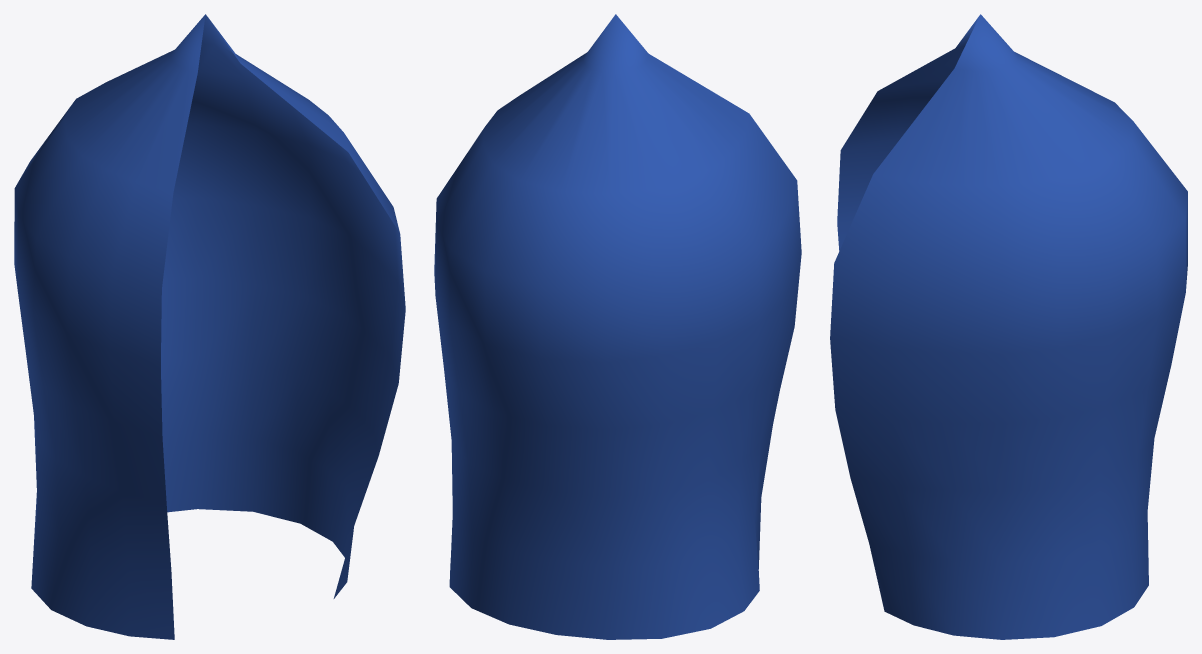
The model's file is mushroom_cap_head.glb.
3 views of the same model, side by side, from view 1: azimuth 30°, elevation 25°; view 2: azimuth 150°, elevation 25°; view 3: azimuth 270°, elevation 25° (orthographic). The views are drawn at different scales.
Visible parts, largest first — view 1: mushroom_cap_head; view 2: mushroom_cap_head; view 3: mushroom_cap_head.
Boxes of the visible parts, box(x1,y1,x2,y2) form: mushroom_cap_head: box(14, 14, 405, 639); mushroom_cap_head: box(434, 14, 801, 639); mushroom_cap_head: box(830, 14, 1187, 639).
Bounding box in the file's own units: 0.2135 × 0.3668 × 0.2125.
